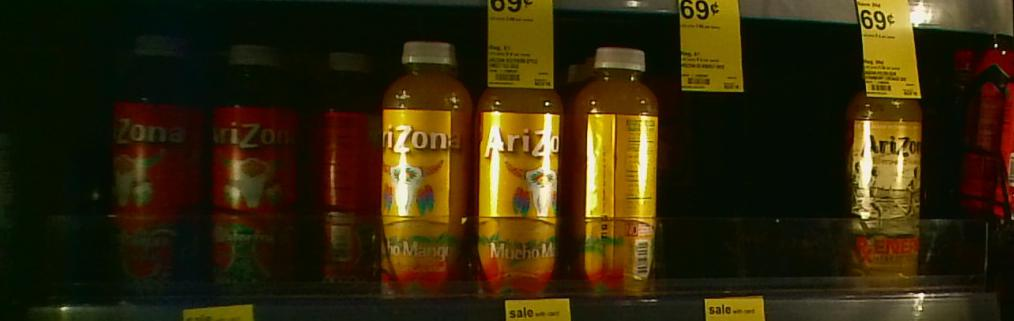bottle: (106, 21, 211, 301), (563, 35, 661, 297), (467, 35, 562, 294), (381, 34, 466, 296), (208, 41, 295, 292), (842, 45, 922, 293), (308, 46, 379, 295)
